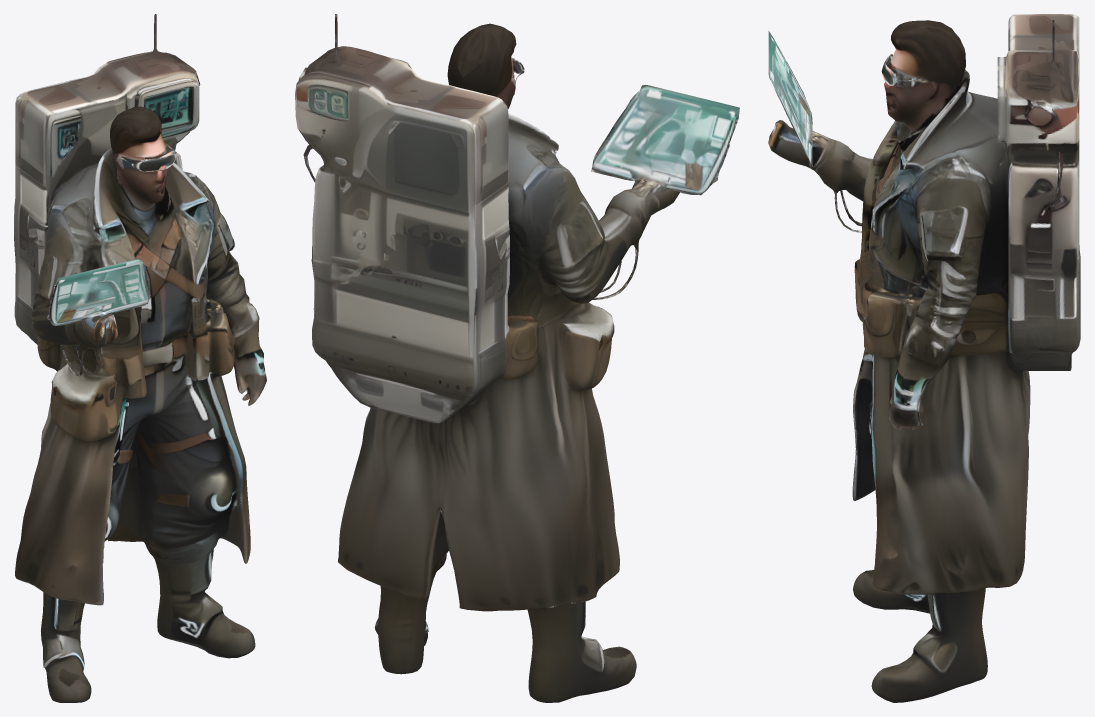
File: character_wandering_tech.glb
3 renders of one model, left to right at view 1: azimuth 30°, elevation 25°; view 2: azimuth 150°, elevation 25°; view 3: azimuth 270°, elevation 25°, orthographic. The views are drawn at different scales.
Parts seen in each view (by area): view 1: model; view 2: model; view 3: model.
Boxes of the visible parts, bbox=[...] form: model: bbox=[14, 14, 266, 702]; model: bbox=[295, 14, 739, 702]; model: bbox=[768, 14, 1080, 702].
Size of the model in its own units: 0.8979 by 1.88 by 0.793.
1 material, 1 textured.
